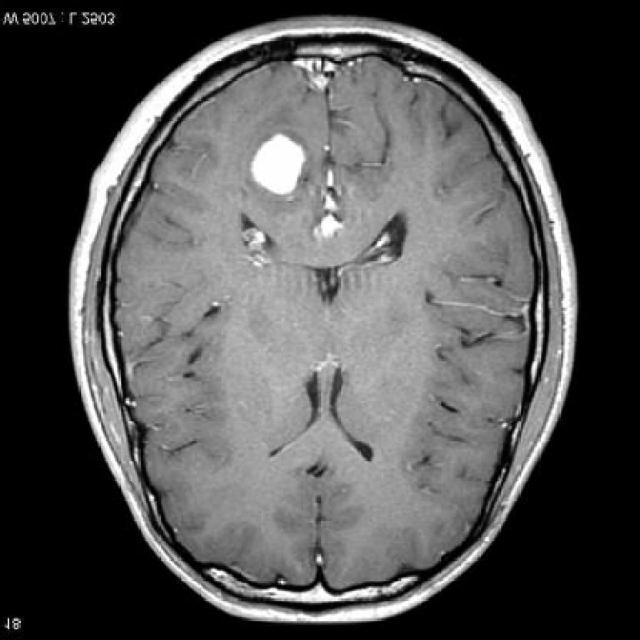Brain-Tumor: (244, 115, 316, 205)
